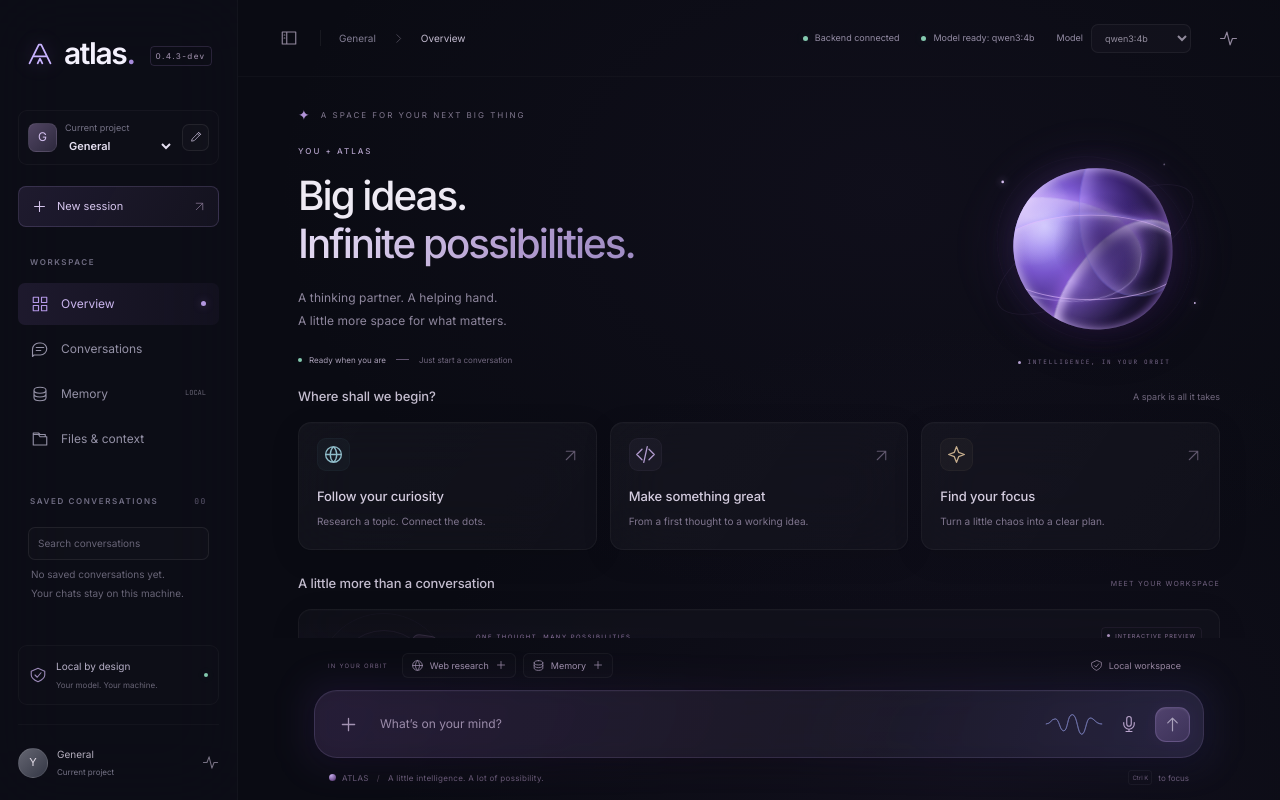
switching projects scopes the next chat and its conversation list
Expected: the text "Backend connected" is shown, [803, 31, 899, 45]
Expected: the text "Model ready: qwen3:4b" is shown, [921, 31, 1034, 45]
Select "Garden" in the dropdown labelled "Current project": (120, 146) [65, 138, 174, 154]
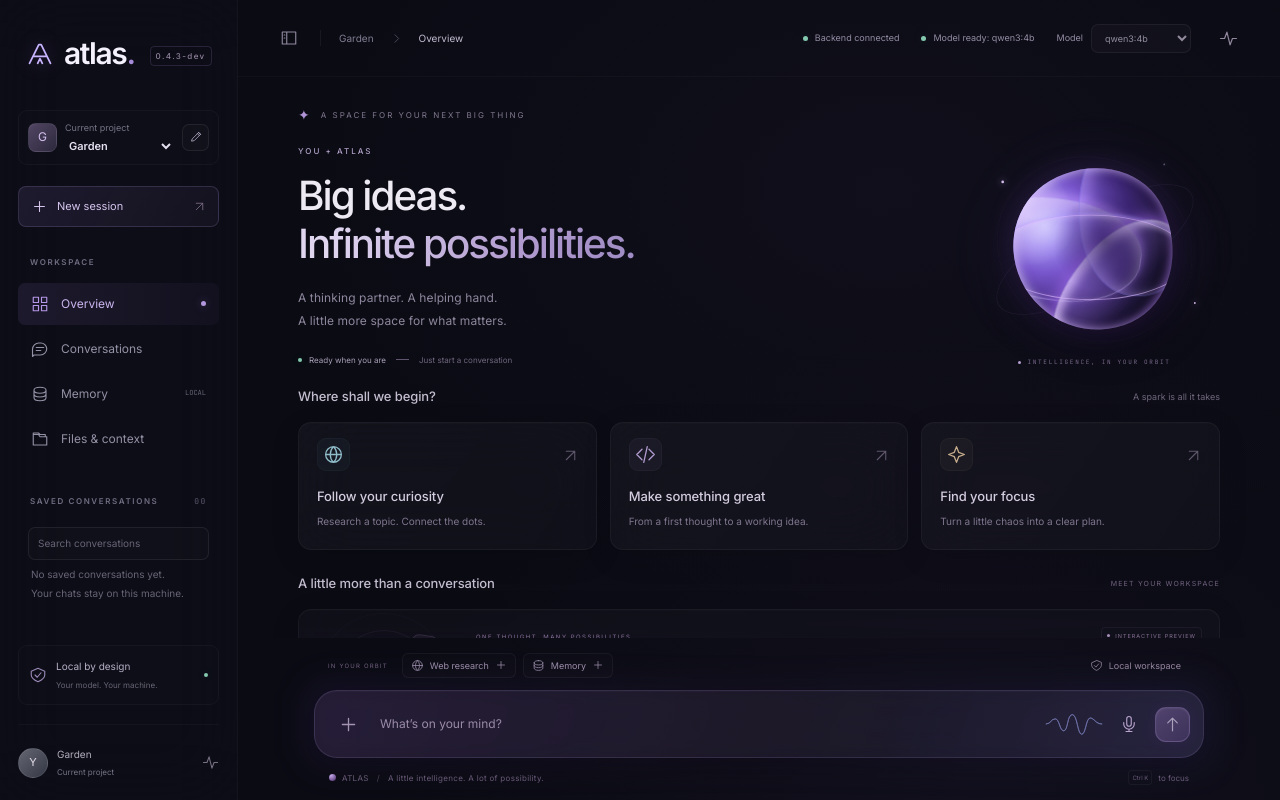
In the field named "Message Atlas": (705, 724) [380, 715, 1030, 733], type "Plan the garden"
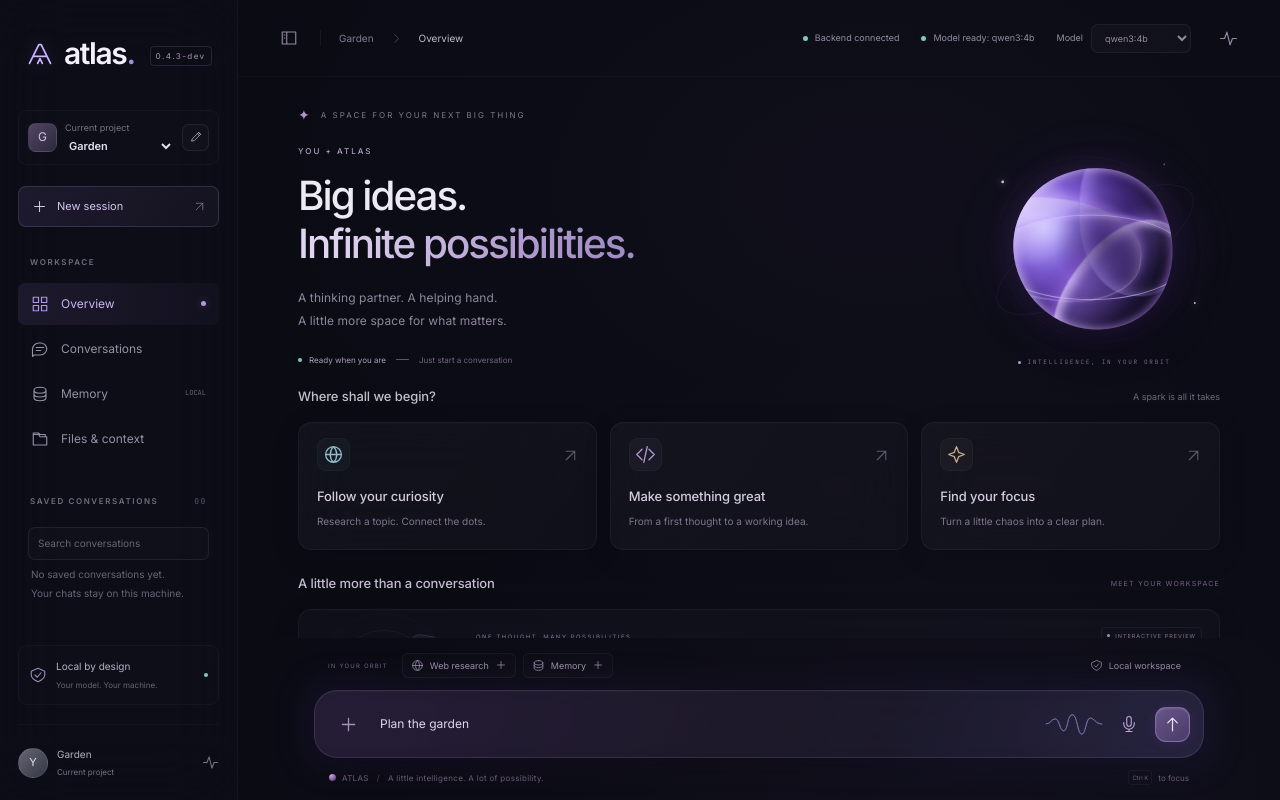
Click the button named "Send message": (1172, 724) [1155, 706, 1190, 742]
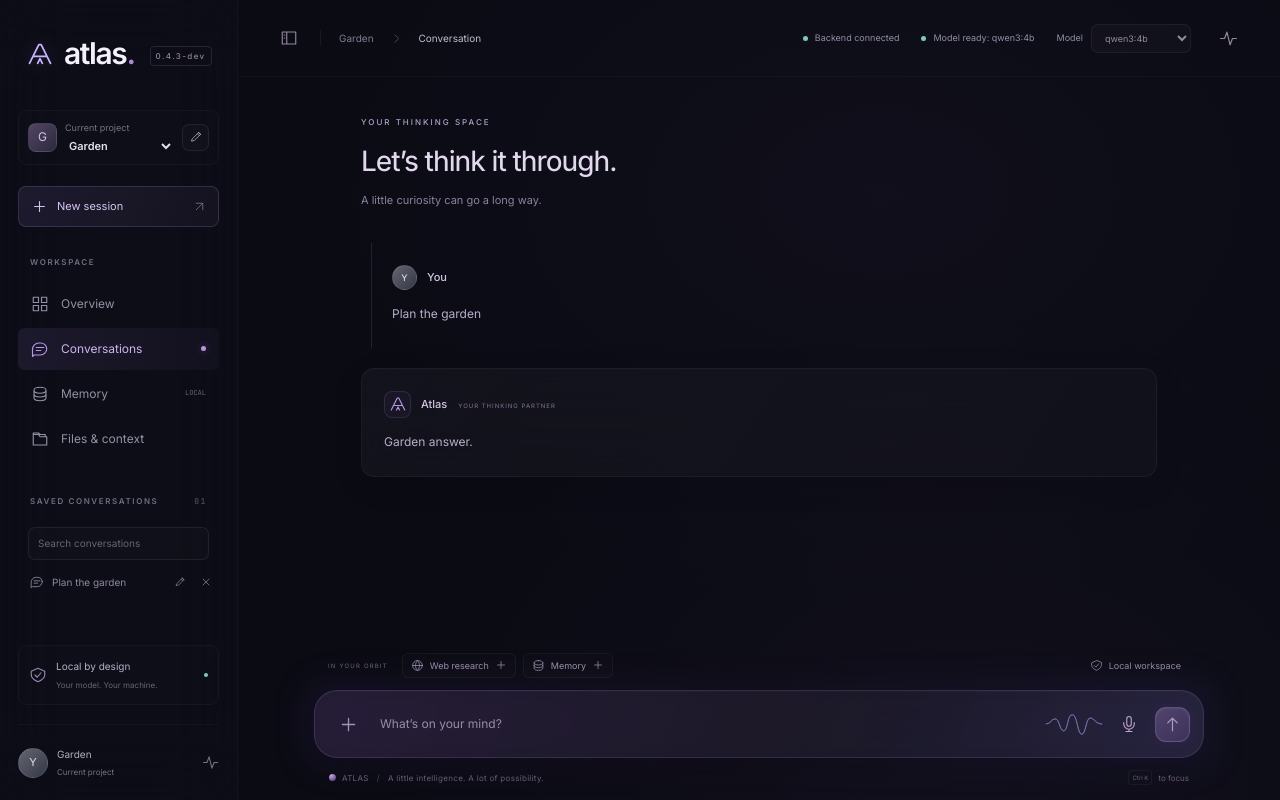
Now the text "Garden answer." is shown, box [384, 434, 473, 449]
